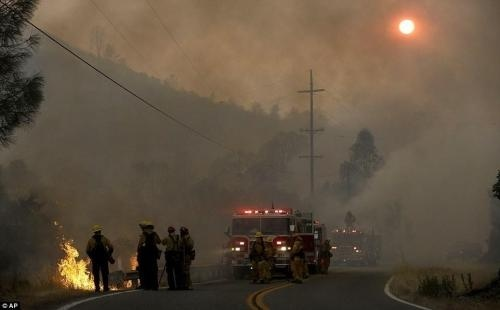fire: (54, 233, 95, 288), (111, 251, 142, 290)
